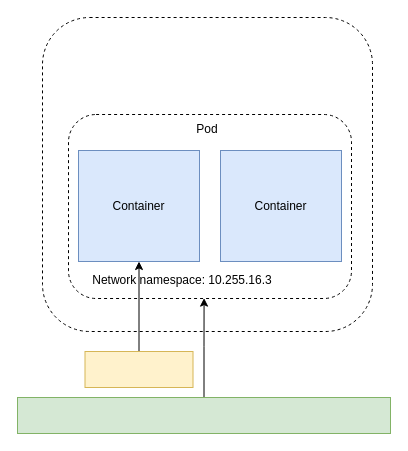
Image size: 408x451. Some labels were removed from this diagram. The centre of each missing label's shape, as x and y in pixels:
"External Volume" goes at pixel 138 369.
"Pod Network" goes at pixel 203 415.
